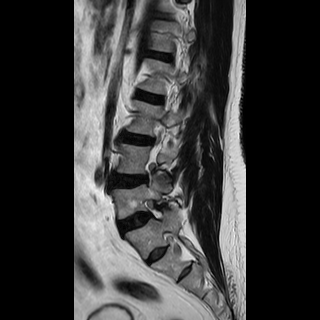RFS0: (139, 191, 169, 230)
